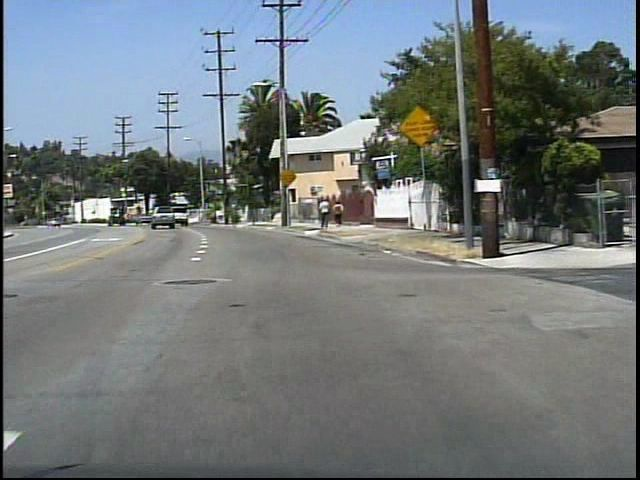person: (316, 196, 331, 232), (331, 200, 345, 229)
